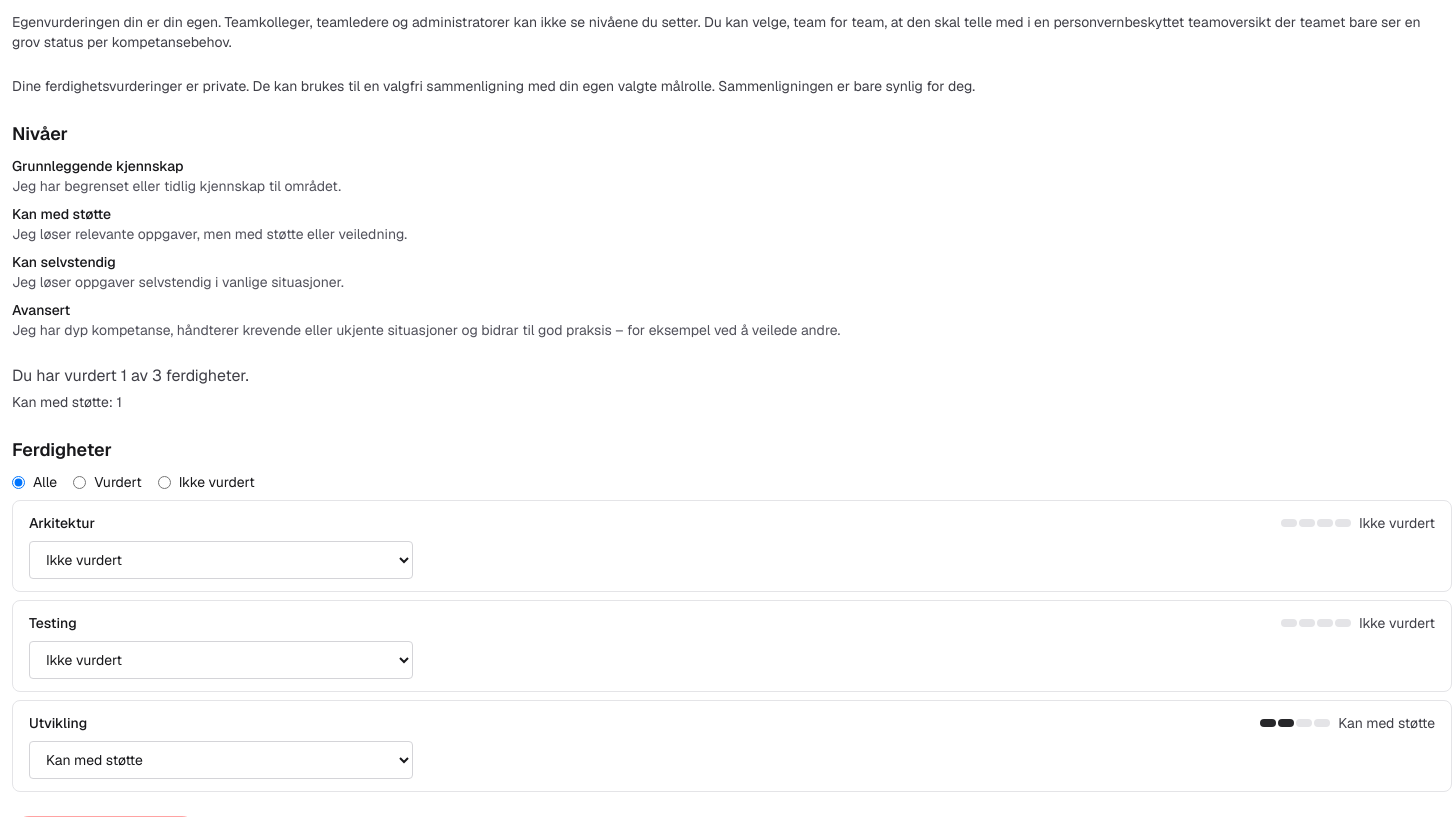
Test case: SkillProfilePage — mutation-time 409 with another save still in flight (TASK-010, S4) › a catalog refetch started by a 404 cannot restore a readable profile after a 409
Expected: the text "Egenvurderingen din er din egen" is shown, [12,13,1420,51]
Select "Kan selvstendig" in the dropdown labelled "Arkitektur" at (221, 560), box [29,541,413,579]
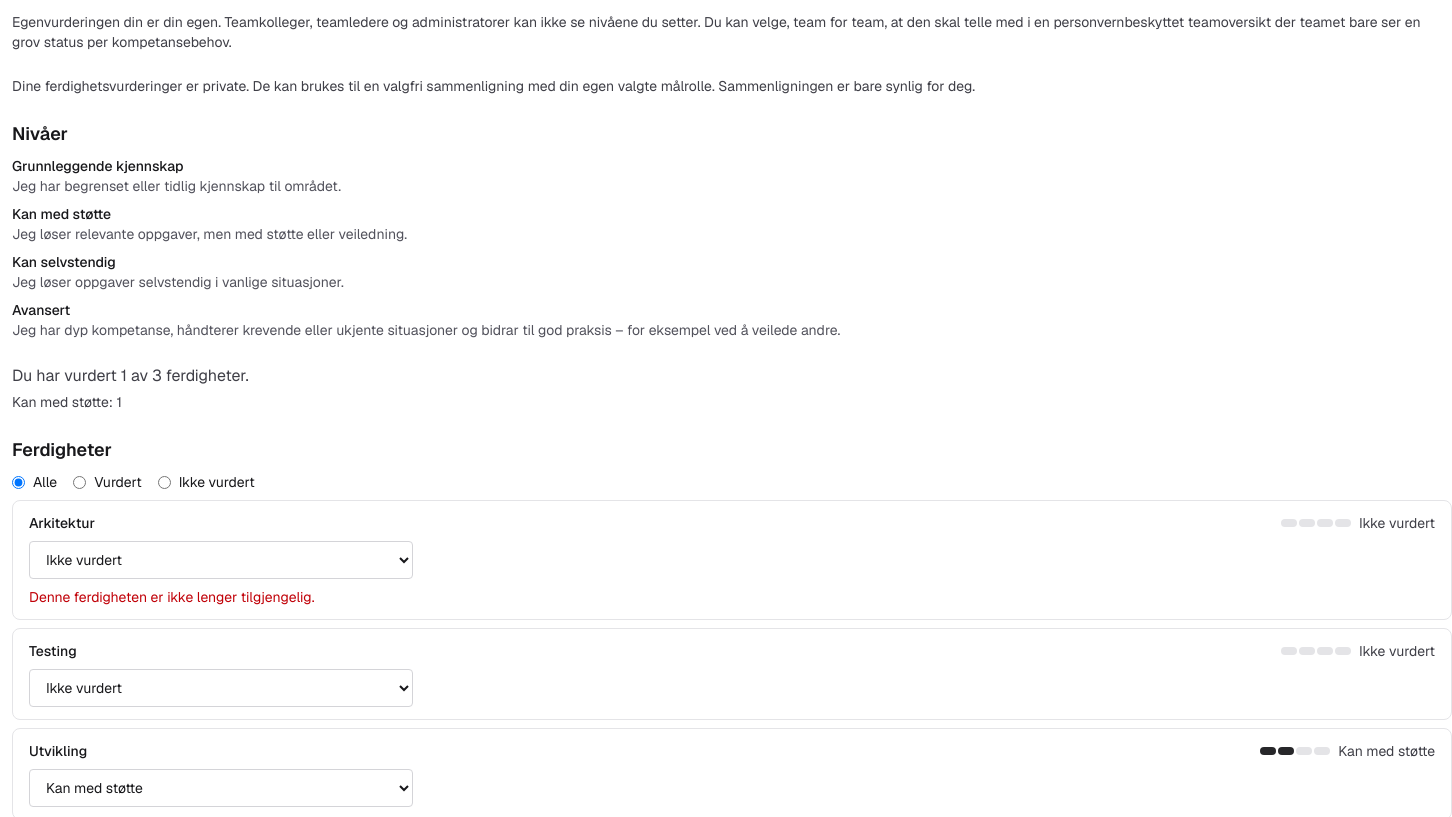
Select "Avansert" in the dropdown labelled "Testing" at (221, 688), box [29,669,413,707]
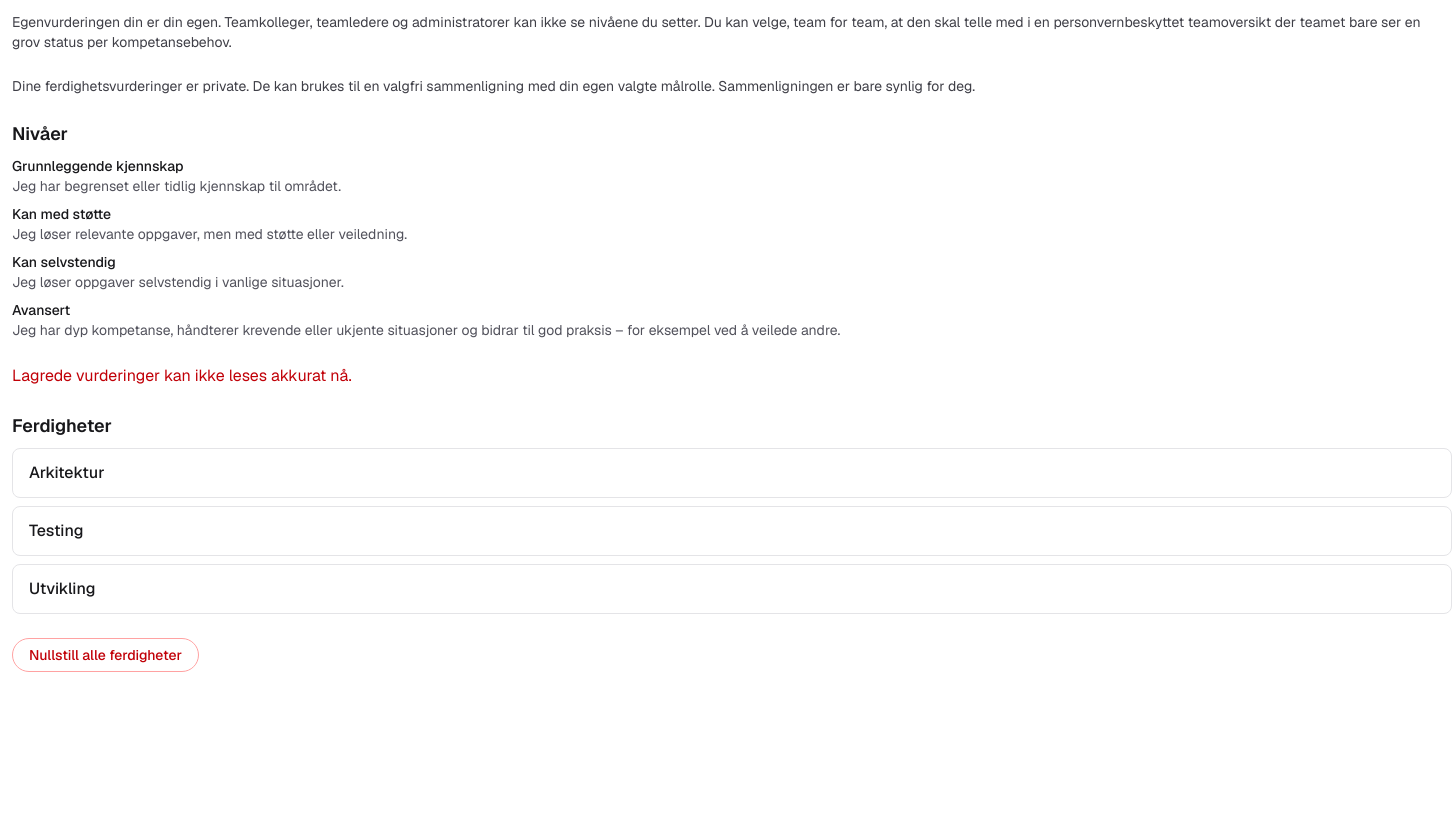
Expected: the text "Lagrede vurderinger kan ikke leses akkurat nå." is shown, [12,365,352,386]
Expected: the dropdown is gone
